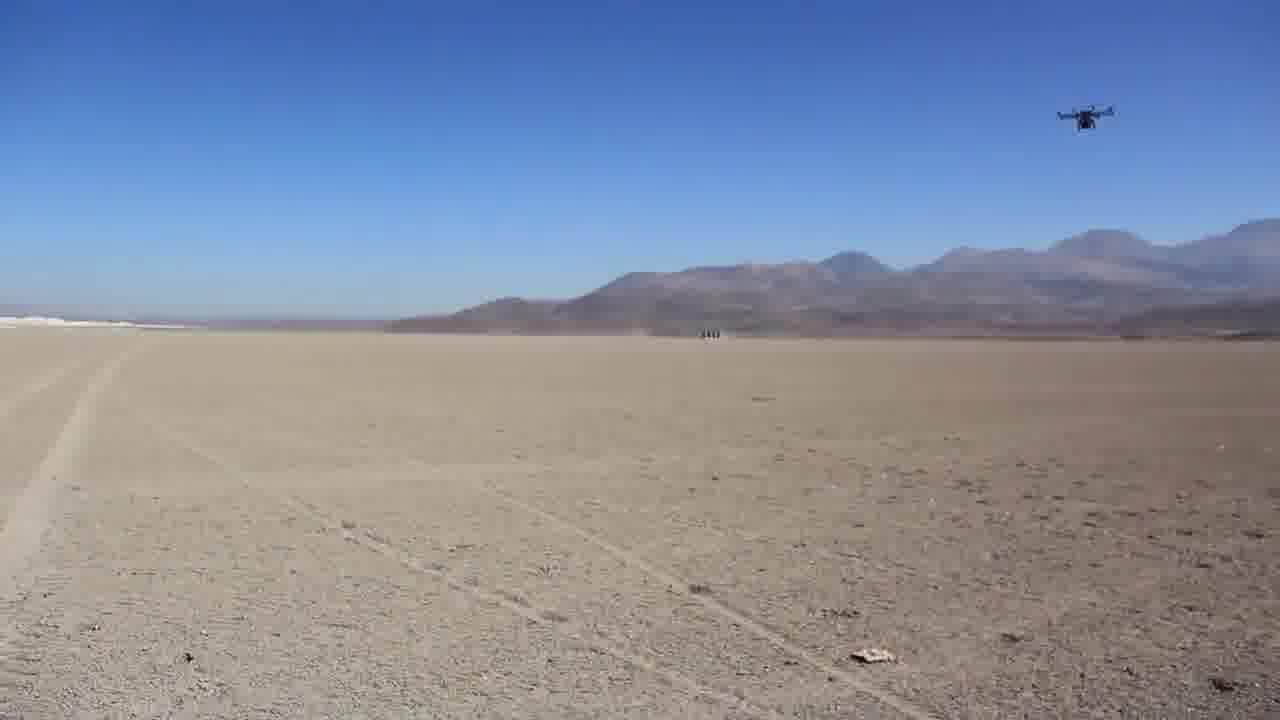Drone: (1046, 95, 1126, 143)
